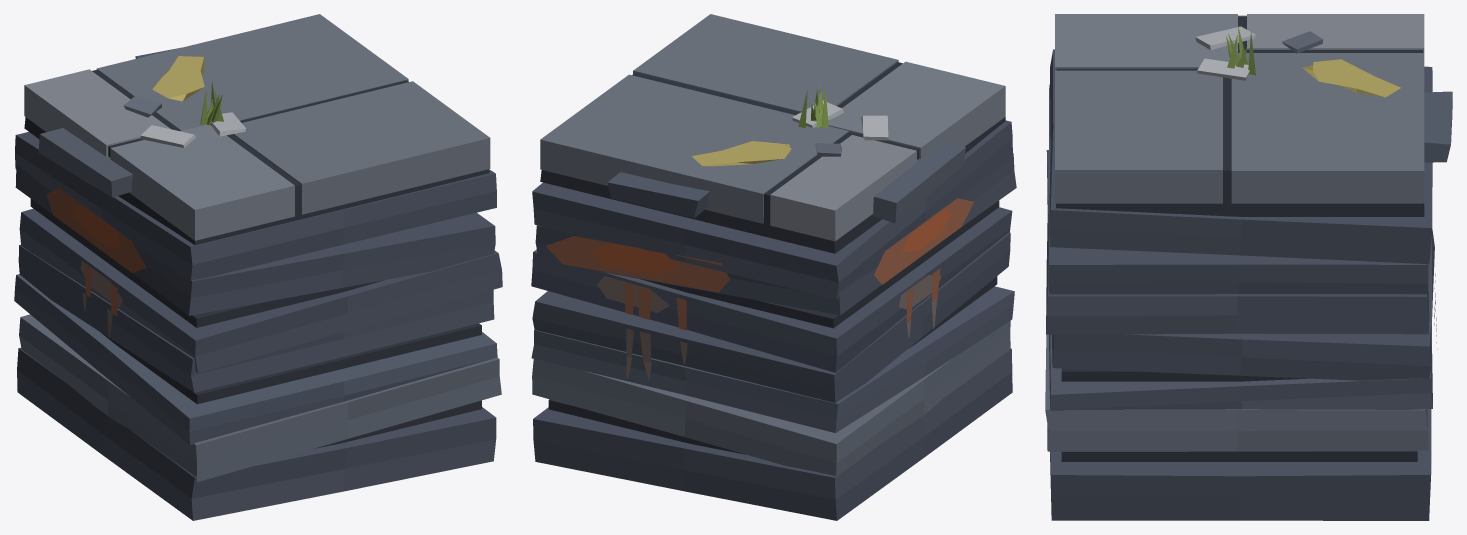
File: cliff_slate_b.glb
The picture shows the model from 3 angles, left to right: view 1: azimuth 30°, elevation 25°; view 2: azimuth 150°, elevation 25°; view 3: azimuth 270°, elevation 25°; orthographic projection. The views are drawn at different scales.
Visible parts, largest first — view 1: cliff_slate_b; view 2: cliff_slate_b; view 3: cliff_slate_b.
Part boxes in pixels (x1,y1,x2,y2): cliff_slate_b: [14, 14, 502, 520]; cliff_slate_b: [531, 14, 1016, 520]; cliff_slate_b: [1045, 14, 1452, 520].
Size of the model in its own units: 1.11 by 1.16 by 1.1.
